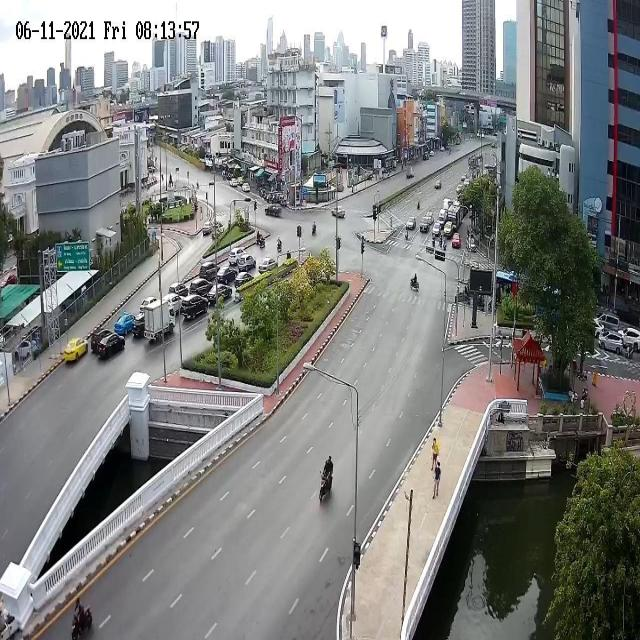Car: (97, 335, 125, 363), (180, 294, 208, 318), (62, 336, 84, 365), (208, 284, 232, 307), (114, 312, 134, 333), (132, 313, 146, 339), (199, 262, 219, 280), (234, 272, 254, 290), (258, 256, 278, 274), (163, 296, 182, 314), (238, 254, 256, 272), (189, 280, 212, 294), (228, 248, 245, 265), (217, 267, 235, 282), (168, 283, 188, 294), (443, 222, 454, 240), (406, 214, 416, 229), (420, 217, 429, 232), (452, 233, 461, 247), (434, 179, 442, 190), (426, 210, 434, 220), (433, 223, 440, 234)
Cycle: (320, 453, 334, 503), (409, 272, 419, 294), (276, 234, 282, 252), (310, 219, 316, 236)
Truck: (145, 305, 177, 345), (448, 205, 463, 226)
